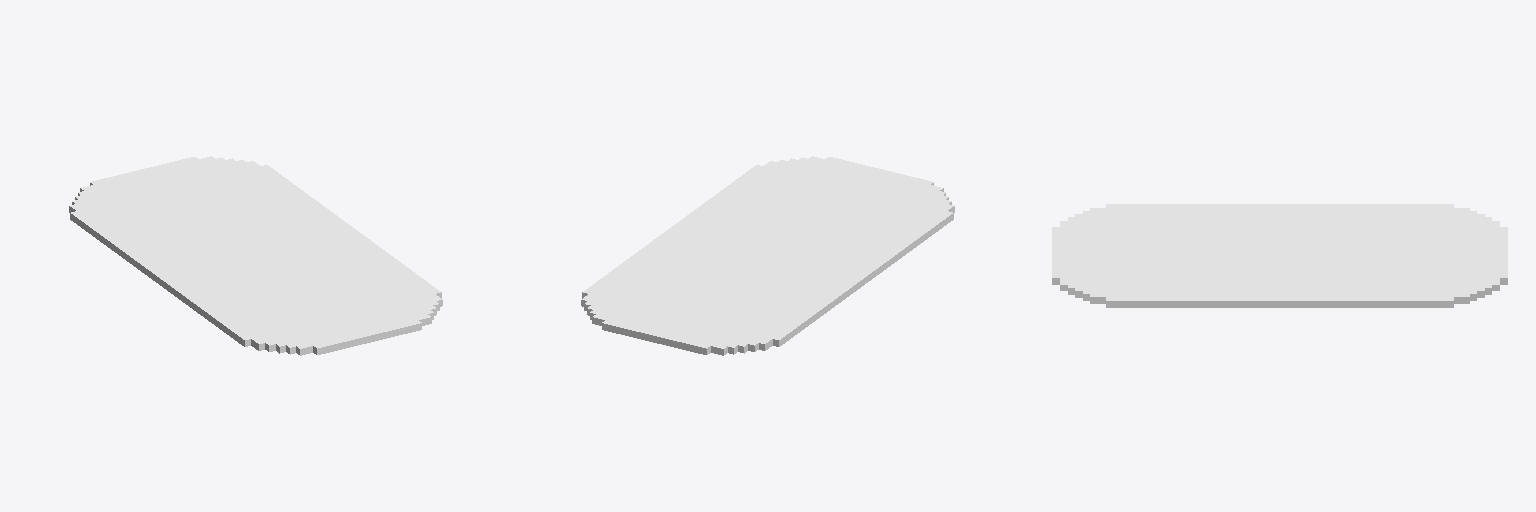
Rendered from Rug_01.obj.
The picture shows the model from 3 angles: view 1: azimuth 30°, elevation 25°; view 2: azimuth 150°, elevation 25°; view 3: azimuth 270°, elevation 25°; orthographic projection.
Parts seen in each view (by area): view 1: Rug_01; view 2: Rug_01; view 3: Rug_01.
Boxes of the visible parts, <box> form: Rug_01: <box>69,156,442,355</box>; Rug_01: <box>581,156,954,355</box>; Rug_01: <box>1052,204,1507,307</box>.
Size of the model in its own units: 30 by 1 by 60.